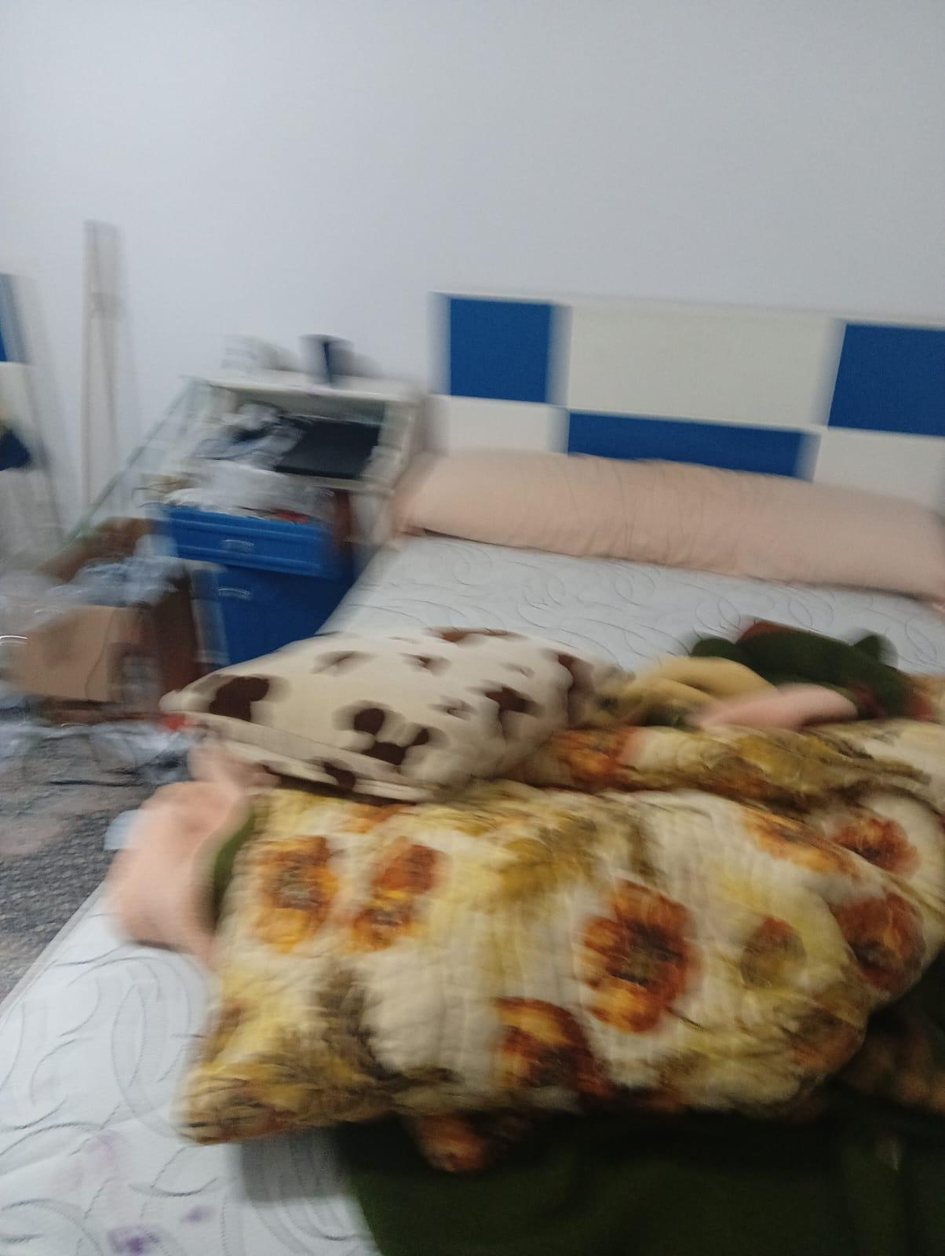cup: (301, 335, 352, 386), (222, 335, 283, 374)
